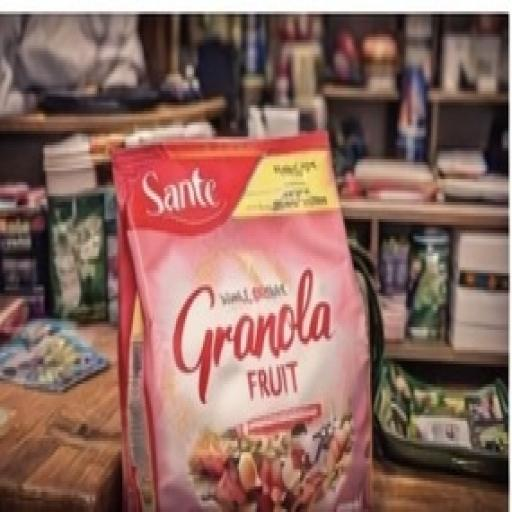granola: (62, 96, 416, 510)
